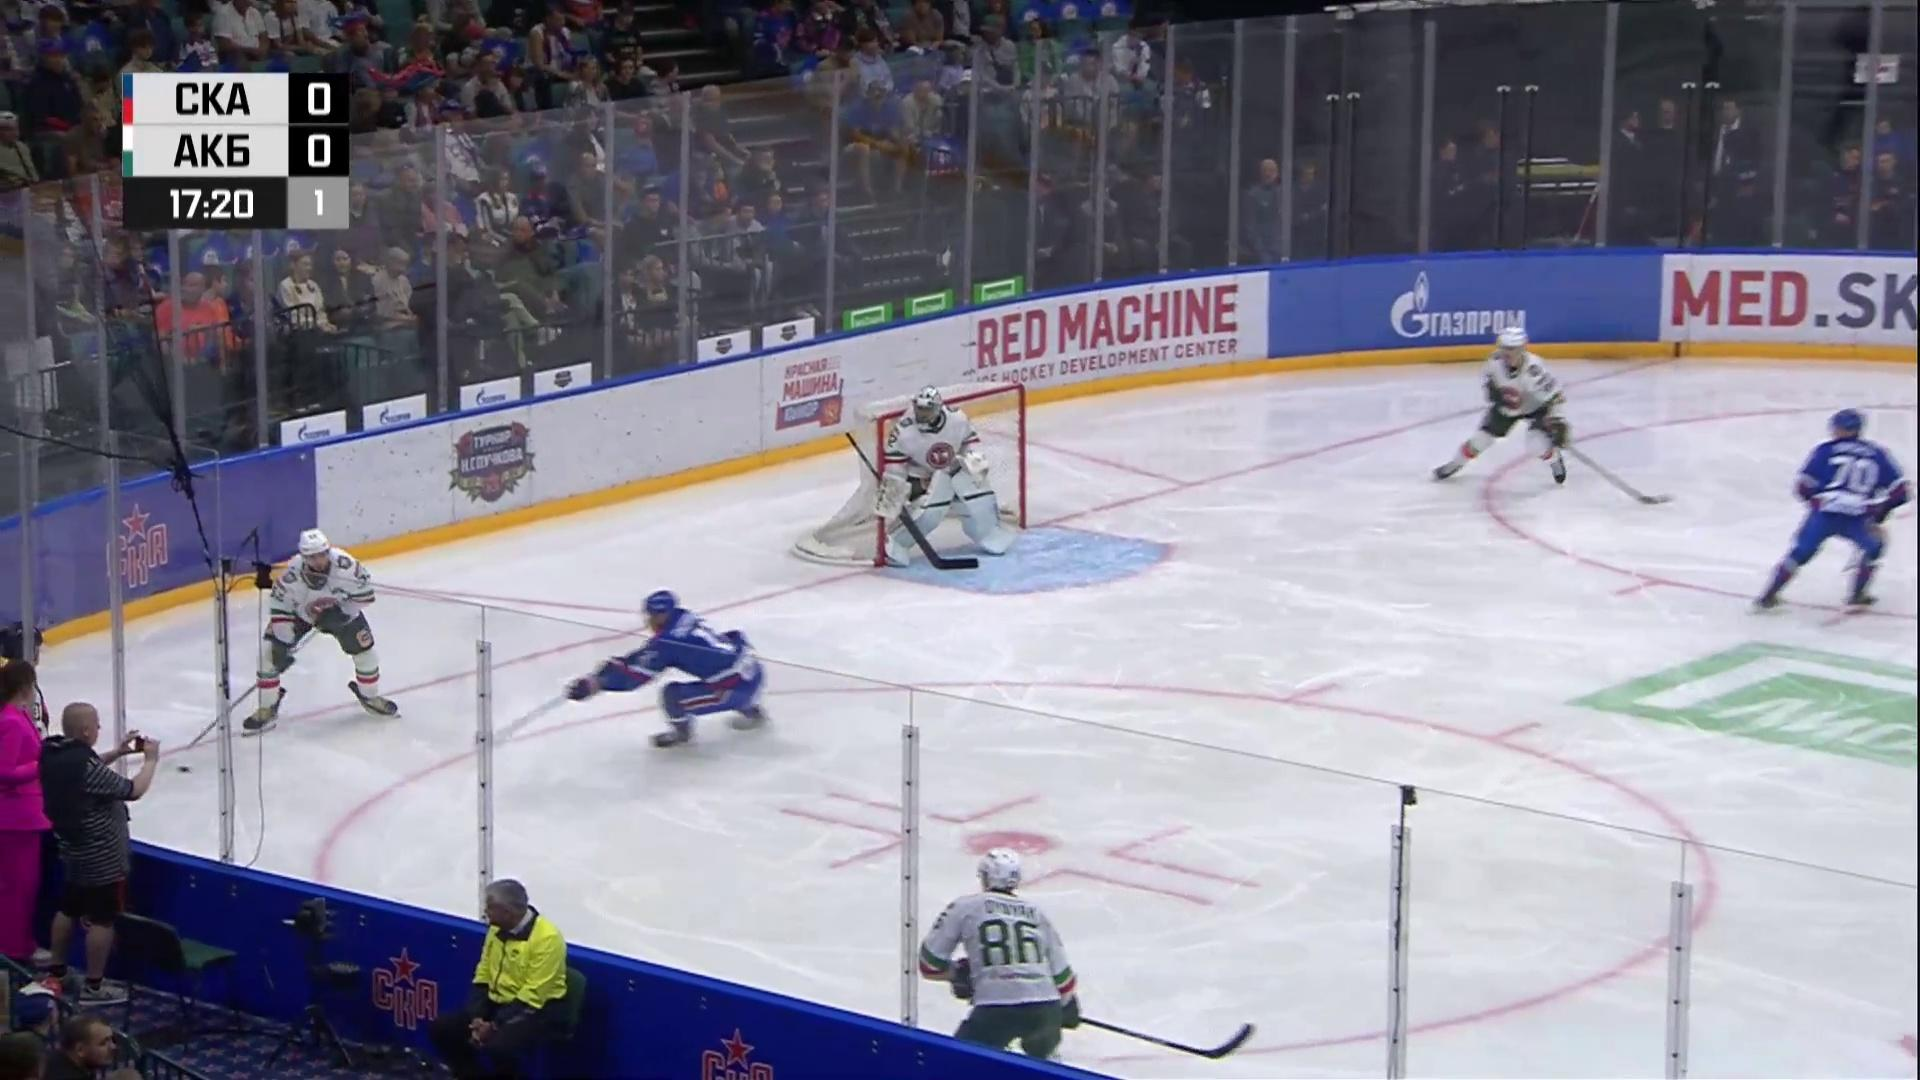ball: (174, 765, 195, 775)
